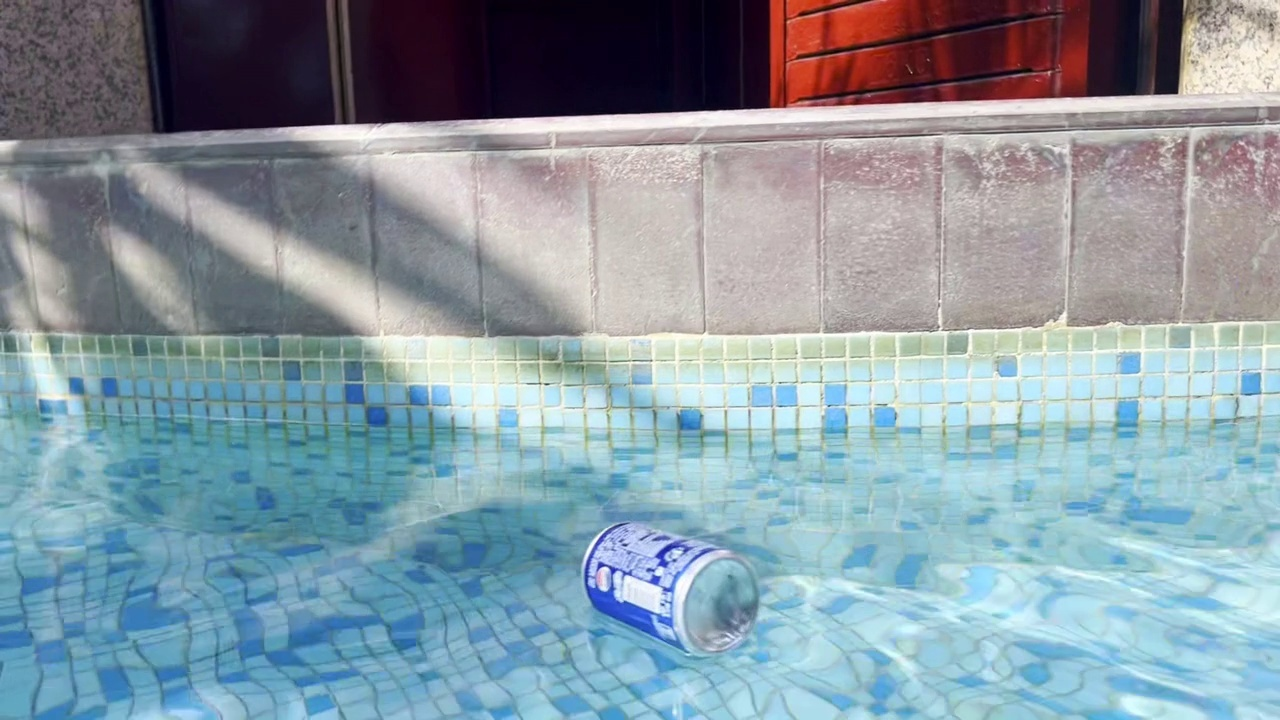debris: (566, 505, 767, 661)
